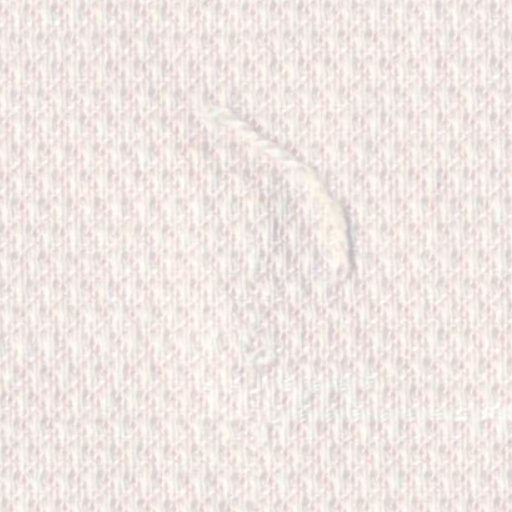DuanSha: (188, 91, 362, 290)
